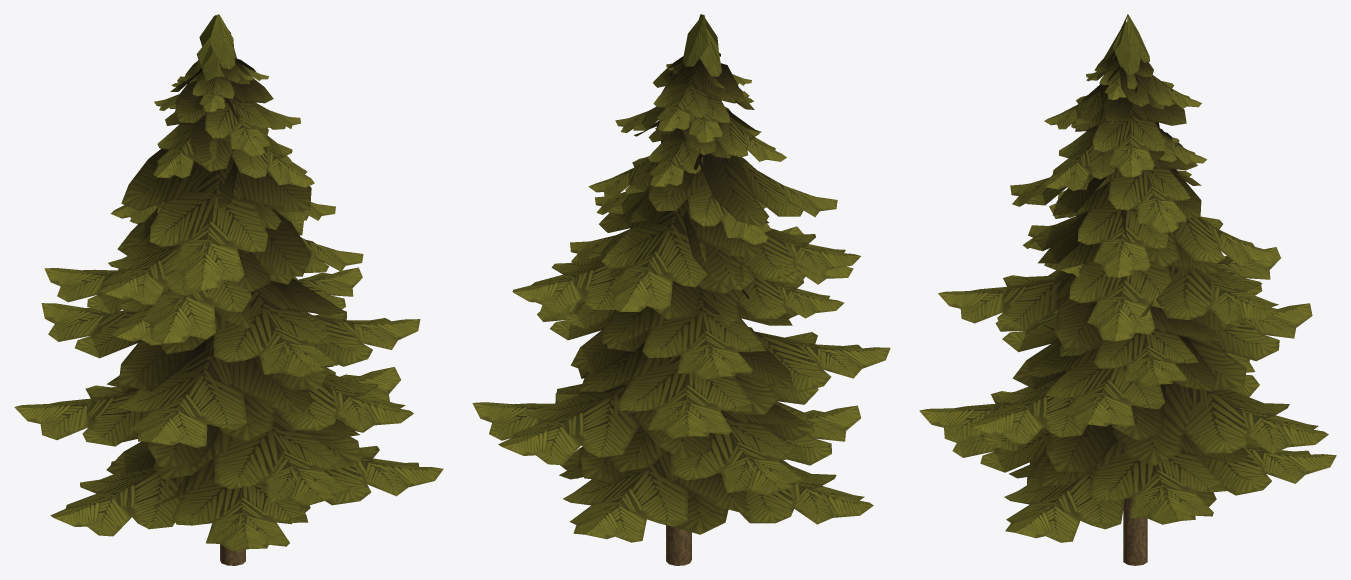
The model's file is tree.obj.
3 renders of one model, left to right at view 1: azimuth 30°, elevation 25°; view 2: azimuth 150°, elevation 25°; view 3: azimuth 270°, elevation 25°, orthographic. The views are drawn at different scales.
Parts seen in each view (by area): view 1: Leaves/001_Vert.019; view 2: Leaves/001_Vert.019, Trank.001_tree.002; view 3: Leaves/001_Vert.019, Trank.001_tree.002.
Part boxes in pixels (box(x1,y1,x2,y2)): Leaves/001_Vert.019: box(14, 14, 443, 551); Leaves/001_Vert.019: box(472, 14, 890, 542); Trank.001_tree.002: box(666, 525, 691, 565); Leaves/001_Vert.019: box(919, 14, 1336, 542); Trank.001_tree.002: box(1123, 498, 1147, 565).
Bounding box in the file's own units: 2.17 × 3.08 × 2.17.
